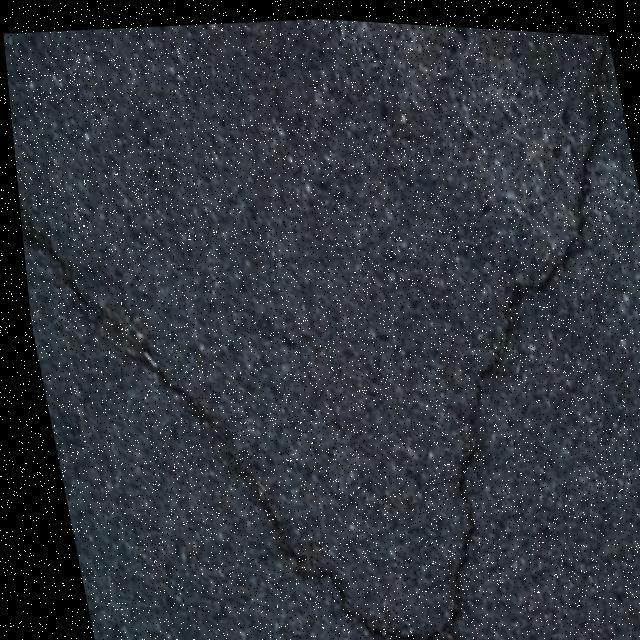crack: (480, 246, 569, 378), (428, 432, 479, 639)
